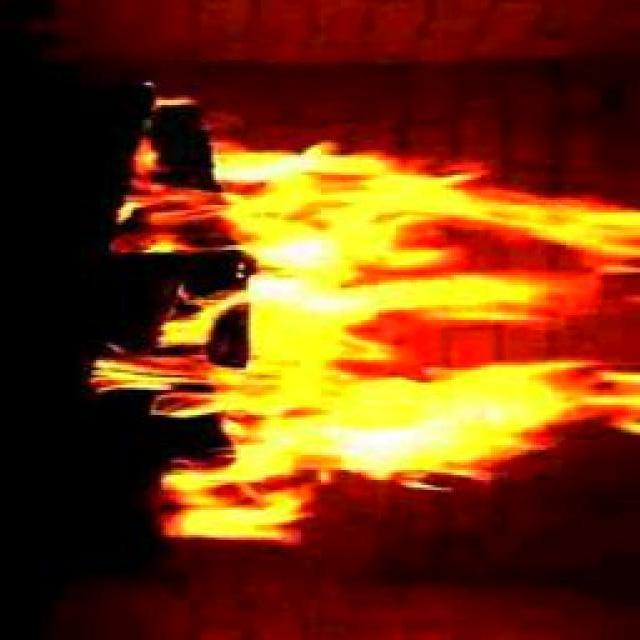Fire: (210, 150, 604, 462)
